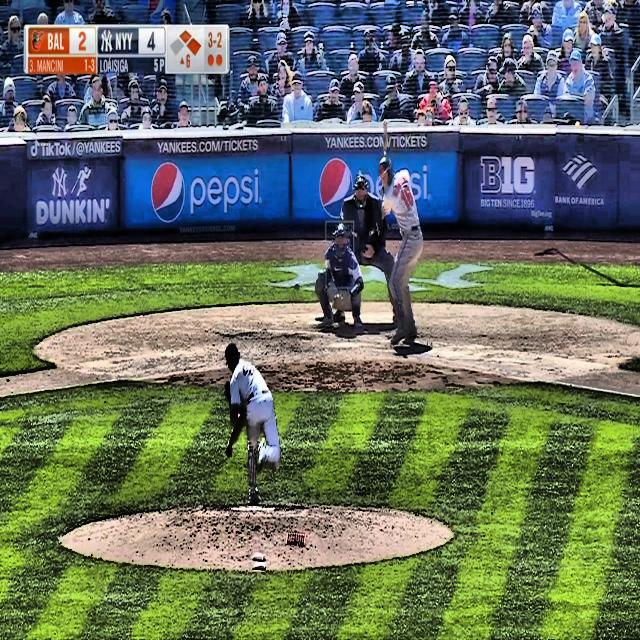baseball: (294, 281, 300, 290)
